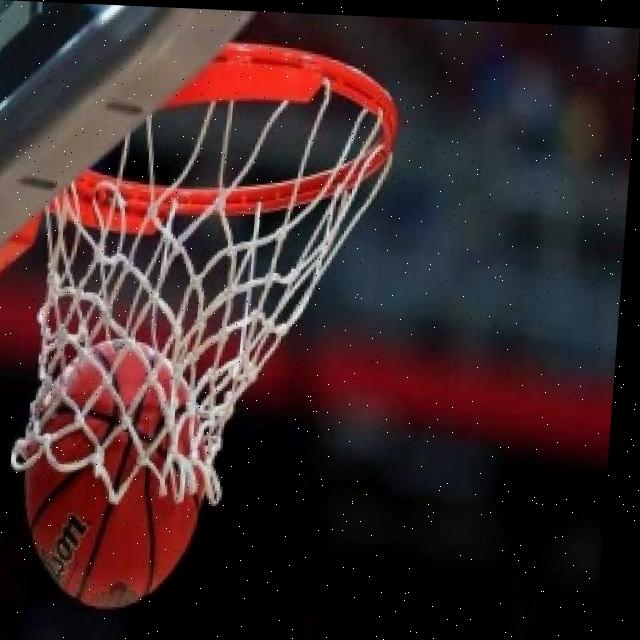Goal: (19, 337, 215, 611)
